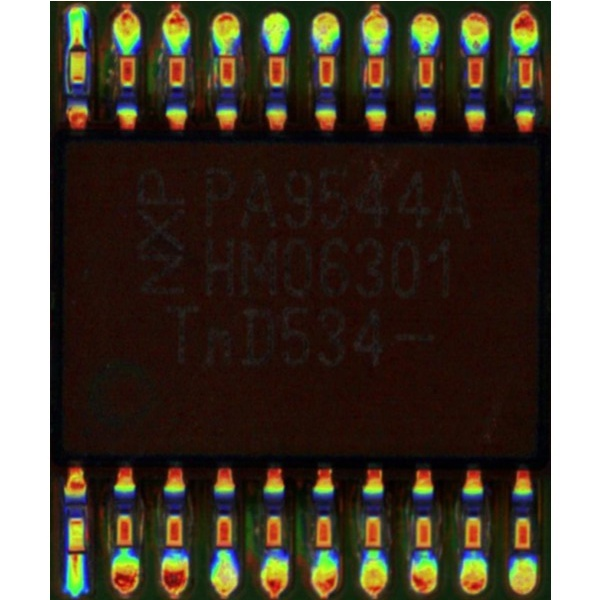Bad_podu: (70, 31, 85, 56), (71, 541, 82, 569)
Bad_qiaojiao: (64, 49, 70, 92)
